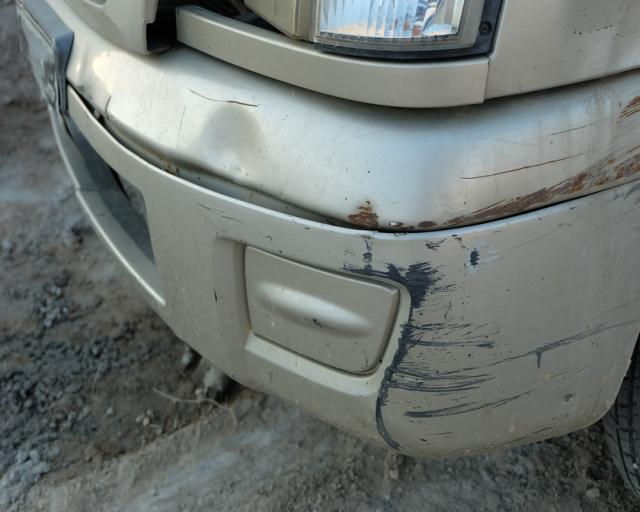dent: (192, 105, 273, 191)
scratch: (342, 183, 640, 460), (343, 89, 640, 238)
